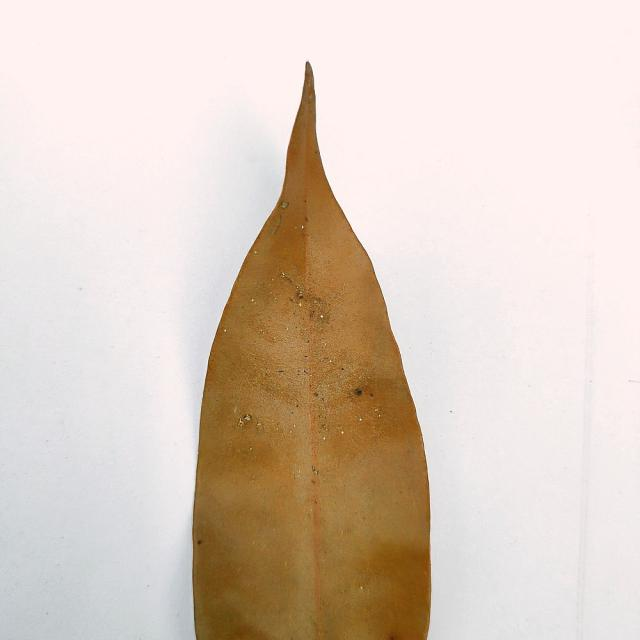Dry_Leaf-Lychee: (191, 63, 432, 639)
